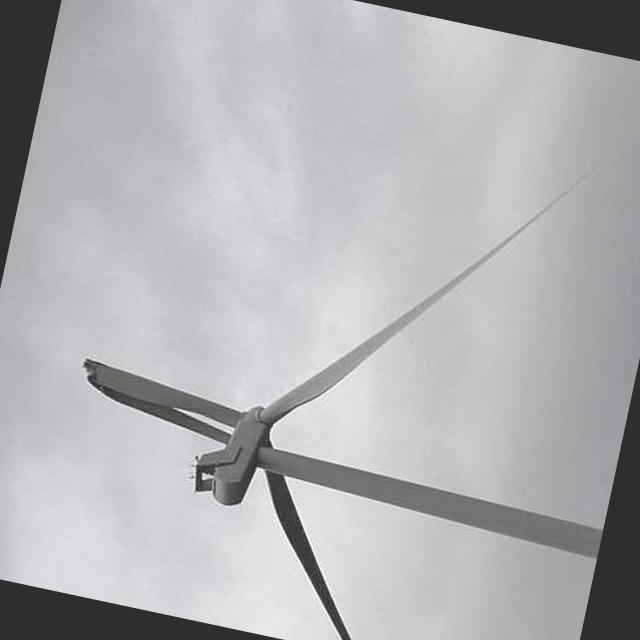crack: (44, 346, 321, 482)
